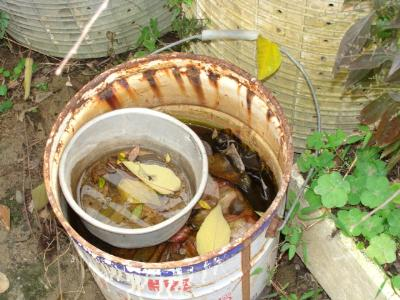bowl: (56, 106, 210, 250)
bucket: (42, 48, 297, 300)
